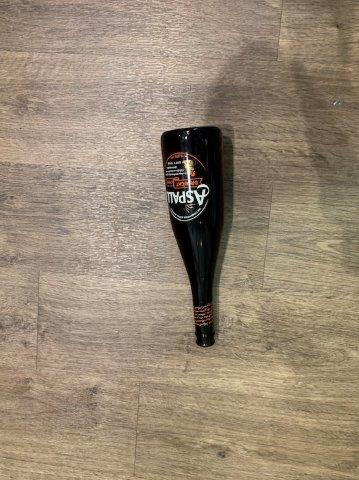botolkaca: (161, 126, 223, 346)
